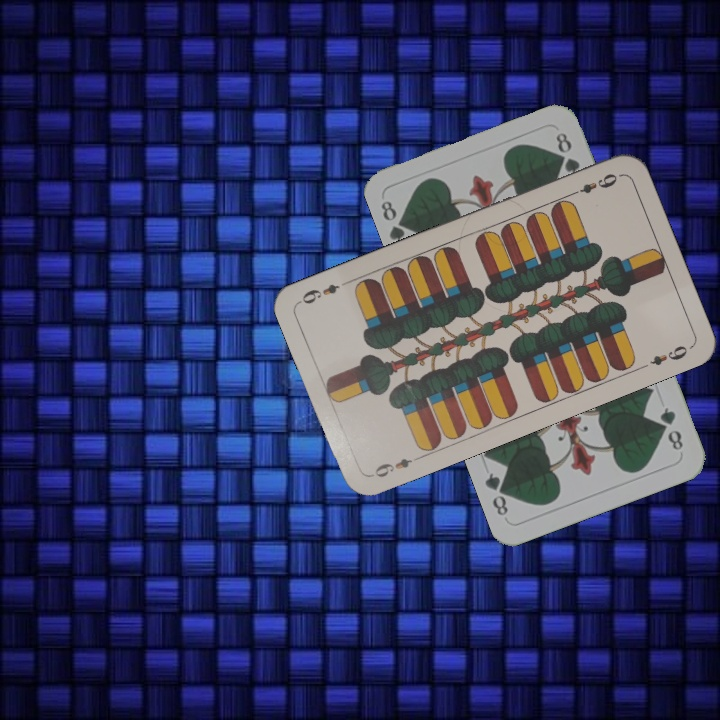E9: (566, 169, 620, 199), (366, 452, 423, 480)
G8: (376, 196, 413, 246), (655, 403, 686, 453)
